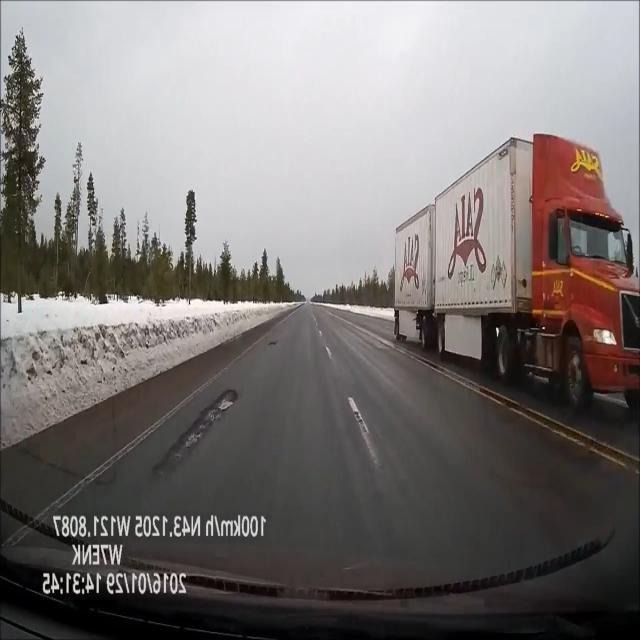pothole: (159, 380, 242, 478)
